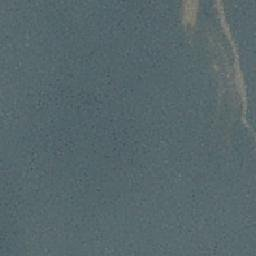debris: (215, 2, 227, 31), (183, 1, 196, 25), (234, 60, 244, 89), (240, 92, 247, 122), (228, 35, 237, 56)
